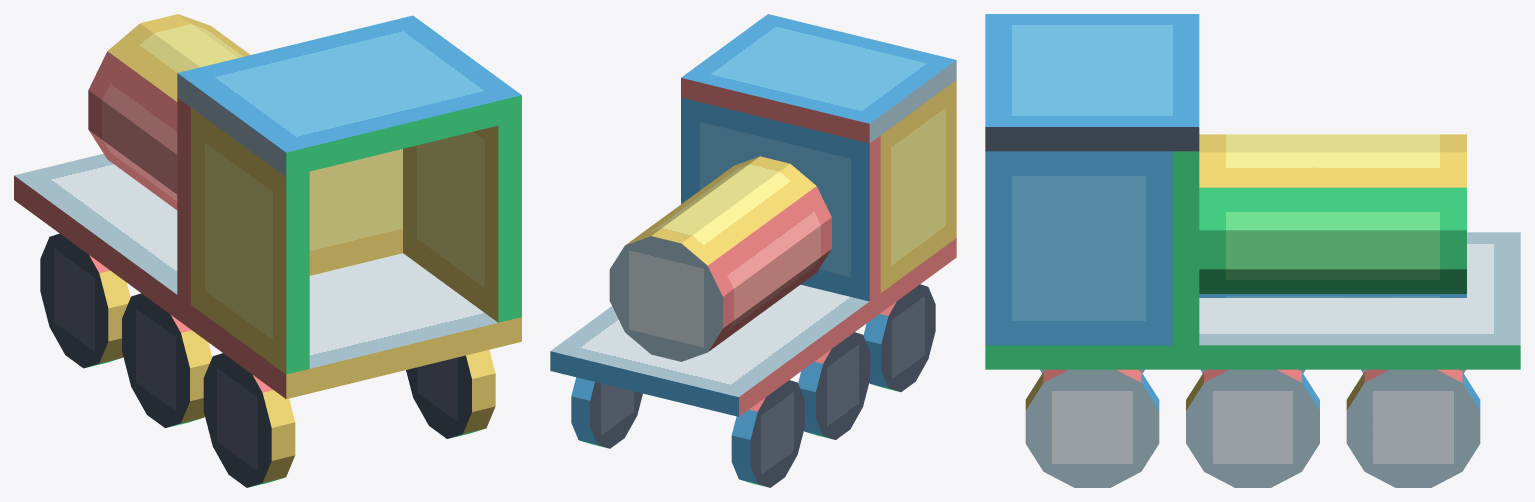
Rendered from test_train.gltf.
3 views of the same model, side by side, from view 1: azimuth 30°, elevation 25°; view 2: azimuth 150°, elevation 25°; view 3: azimuth 270°, elevation 25° (orthographic). The views are drawn at different scales.
Parts seen in each view (by area): view 1: cuboid (×5), wheel (×4), cylinder; view 2: cuboid (×4), cylinder, wheel (×4); view 3: cuboid (×4), cylinder, wheel (×3).
Part boxes in pixels (x1,y1,x2,y2): cuboid (×5): [14, 15, 521, 399]; wheel (×4): [40, 233, 495, 487]; cylinder: [88, 14, 250, 209]; cuboid (×4): [550, 14, 956, 416]; cylinder: [609, 156, 831, 361]; wheel (×4): [571, 284, 935, 487]; cuboid (×4): [985, 14, 1520, 369]; cylinder: [1199, 134, 1466, 297]; wheel (×3): [1025, 369, 1480, 487].
Size of the model in its own units: 6.25 by 9.38 by 12.5.
1 material, 1 textured.
